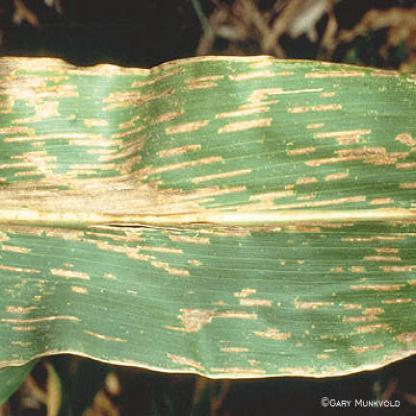Corn leaf blight: (2, 55, 415, 385)
